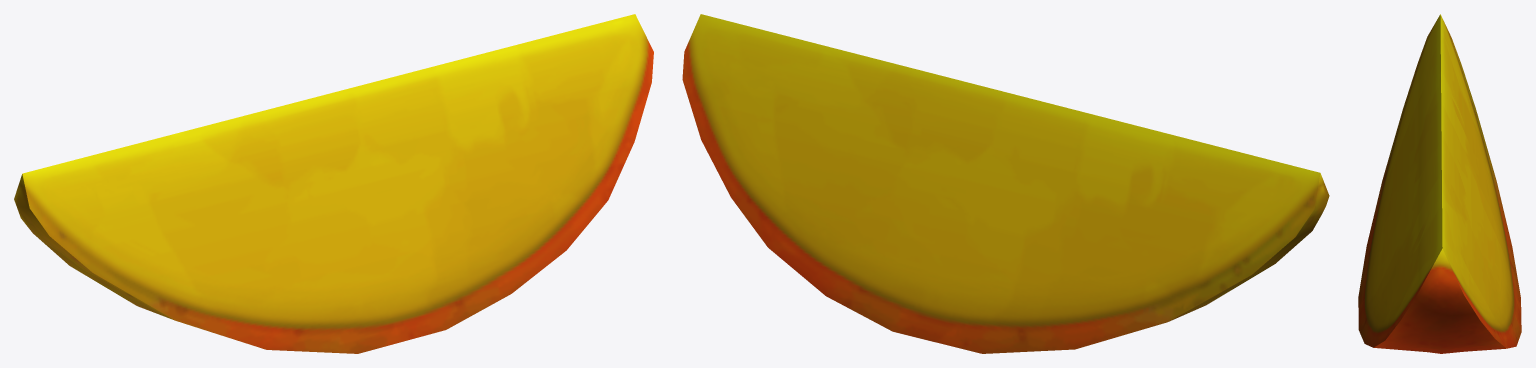
The model's file is SM_MangoSlice.fbx.
The picture shows the model from 3 angles, left to right: view 1: azimuth 30°, elevation 25°; view 2: azimuth 150°, elevation 25°; view 3: azimuth 270°, elevation 25°; orthographic projection. The views are drawn at different scales.
Parts seen in each view (by area): view 1: SM_MangoSlice; view 2: SM_MangoSlice; view 3: SM_MangoSlice.
Boxes of the visible parts, bbox=[...] form: SM_MangoSlice: bbox=[14, 14, 653, 353]; SM_MangoSlice: bbox=[682, 14, 1329, 353]; SM_MangoSlice: bbox=[1358, 14, 1521, 353].
Bounding box in the file's own units: 20.71 × 7.24 × 5.74.
